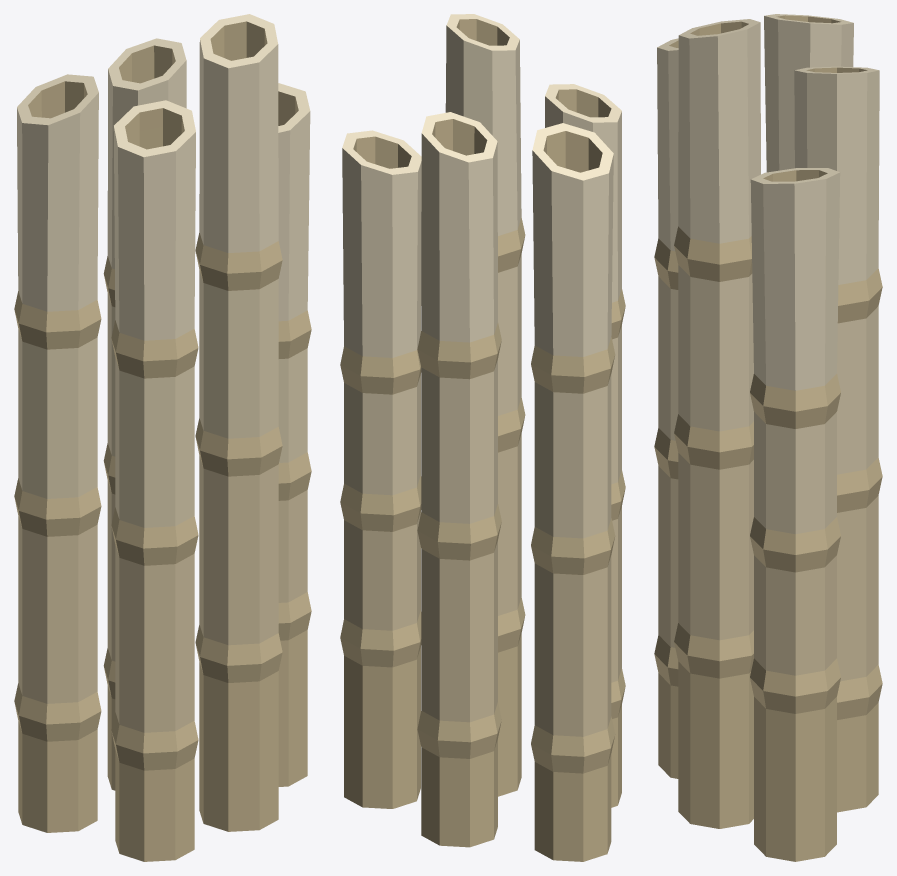
Rendered from fence_bamboo_brown_3.fbx.
The picture shows the model from 3 angles, left to right: view 1: azimuth 30°, elevation 25°; view 2: azimuth 150°, elevation 25°; view 3: azimuth 270°, elevation 25°; orthographic projection. The views are drawn at different scales.
Parts seen in each view (by area): view 1: fence_bamboo_brown_3; view 2: fence_bamboo_brown_3; view 3: fence_bamboo_brown_3.
Boxes of the visible parts, left/top/right/bottom form: fence_bamboo_brown_3: left=14, top=14, right=311, bottom=861; fence_bamboo_brown_3: left=340, top=14, right=625, bottom=861; fence_bamboo_brown_3: left=654, top=14, right=882, bottom=861.
Size of the model in its own units: 87.2 by 232 by 60.54.
